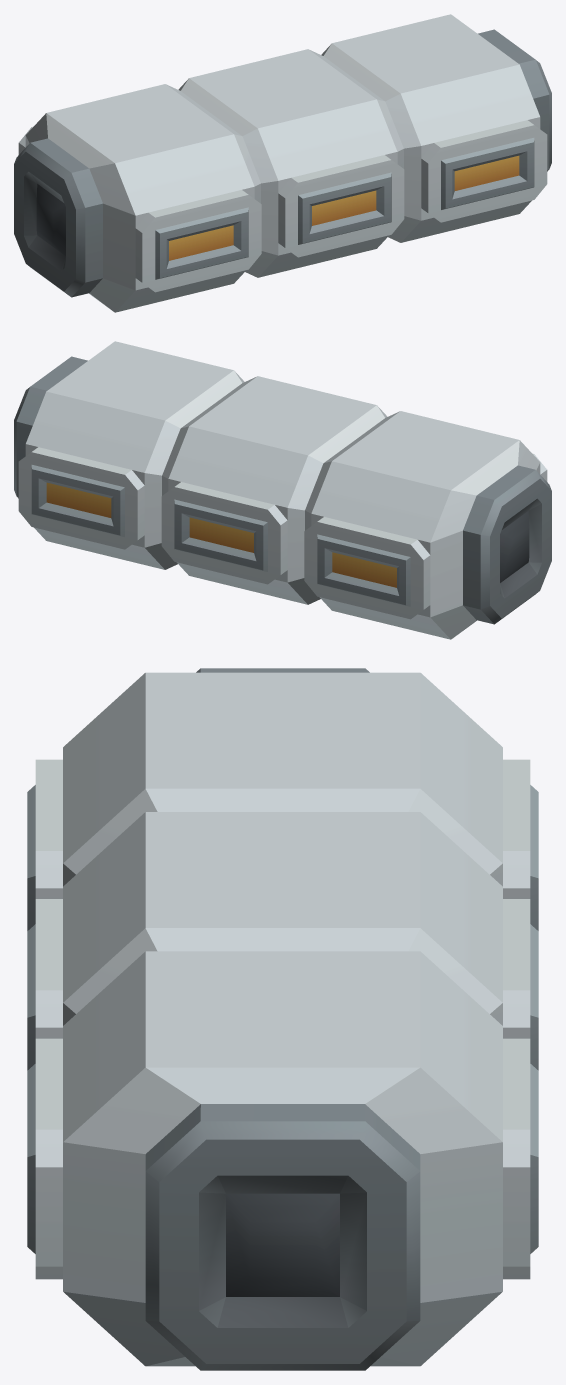
Rendered from kaykit-space-base-bits-tunnel-straight-a.glb.
3 views of the same model, one above another, from view 1: azimuth 30°, elevation 25°; view 2: azimuth 150°, elevation 25°; view 3: azimuth 270°, elevation 25° (orthographic). The views are drawn at different scales.
Parts seen in each view (by area): view 1: tunnel_straight_A; view 2: tunnel_straight_A; view 3: tunnel_straight_A.
Boxes of the visible parts, <box> form: tunnel_straight_A: <box>14,14,551,312</box>; tunnel_straight_A: <box>14,341,551,639</box>; tunnel_straight_A: <box>27,668,538,1370</box>.
Bounding box in the file's own units: 2 × 0.5999 × 0.93.
Materials: 1 (1 with a texture image).
